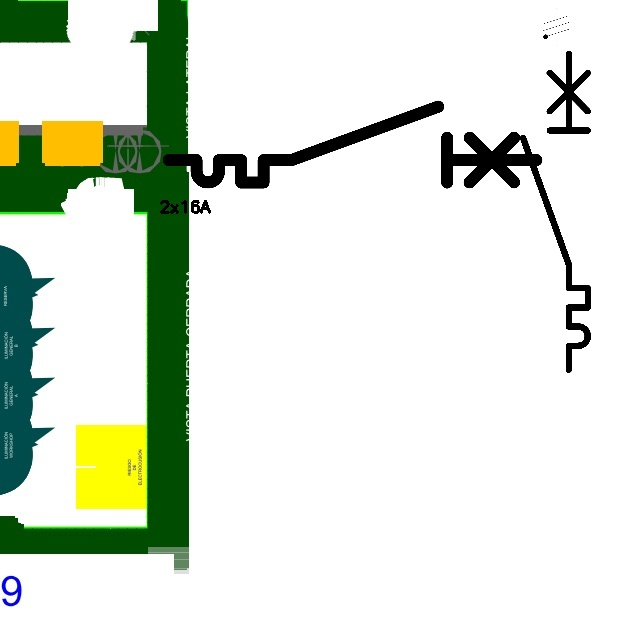interruptor_termomagnetico: (159, 97, 546, 192), (515, 45, 596, 377)
